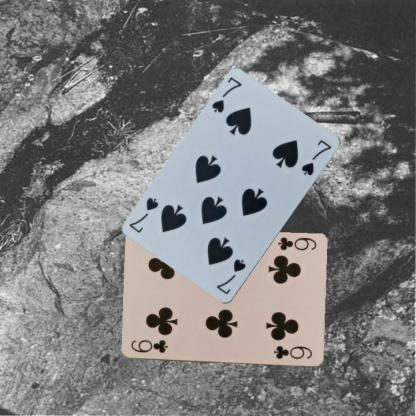6c: (275, 234, 317, 252), (128, 337, 168, 355)
7s: (209, 75, 243, 115), (214, 256, 247, 297)
